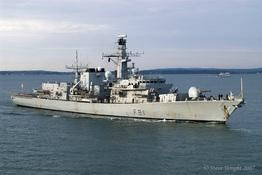warship: (9, 34, 249, 123)
